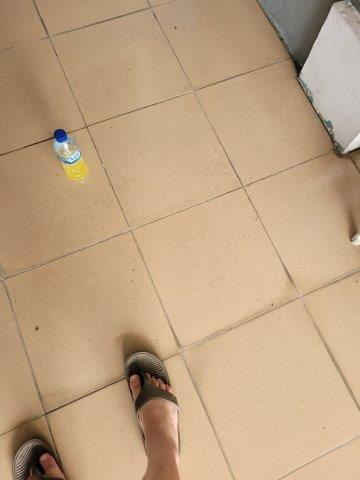botolplastik: (54, 128, 90, 178)
